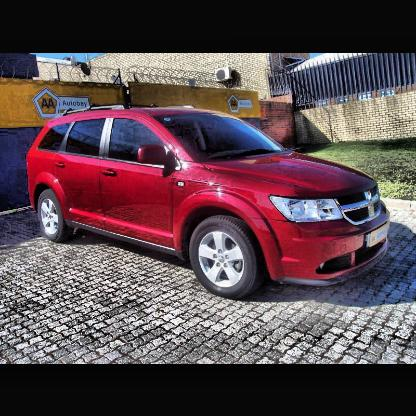Dodge Journey SUV 2012: (31, 109, 392, 300)
